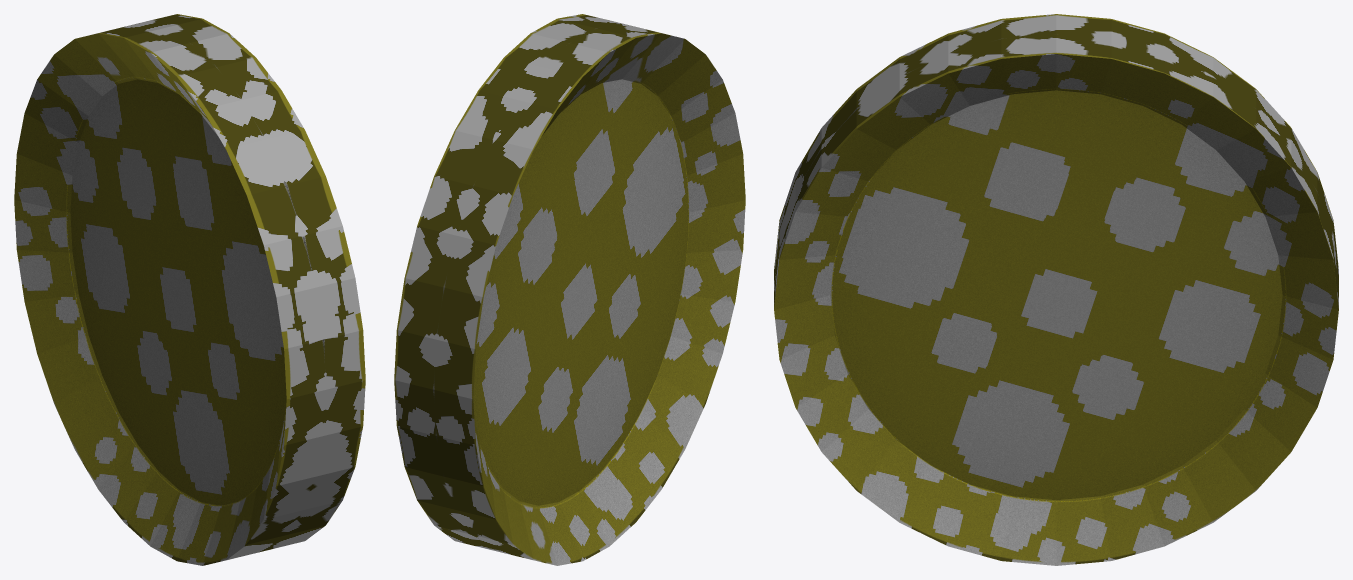
The model's file is coin.fbx.
3 views of the same model, side by side, from view 1: azimuth 30°, elevation 25°; view 2: azimuth 150°, elevation 25°; view 3: azimuth 270°, elevation 25° (orthographic). The views are drawn at different scales.
Parts seen in each view (by area): view 1: Circle; view 2: Circle; view 3: Circle.
Part boxes in pixels (left/top/right/bottom): Circle: left=14, top=14, right=365, bottom=565; Circle: left=394, top=14, right=745, bottom=565; Circle: left=774, top=14, right=1338, bottom=565.
Bounding box in the file's own units: 0.3352 × 2 × 2.
